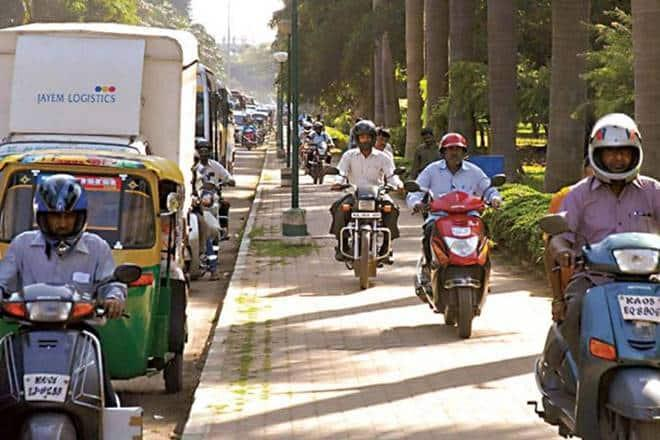helmet: (584, 111, 643, 190), (35, 186, 91, 241), (352, 115, 386, 155), (437, 128, 471, 166), (189, 135, 215, 159), (301, 117, 313, 136), (310, 121, 327, 131)
